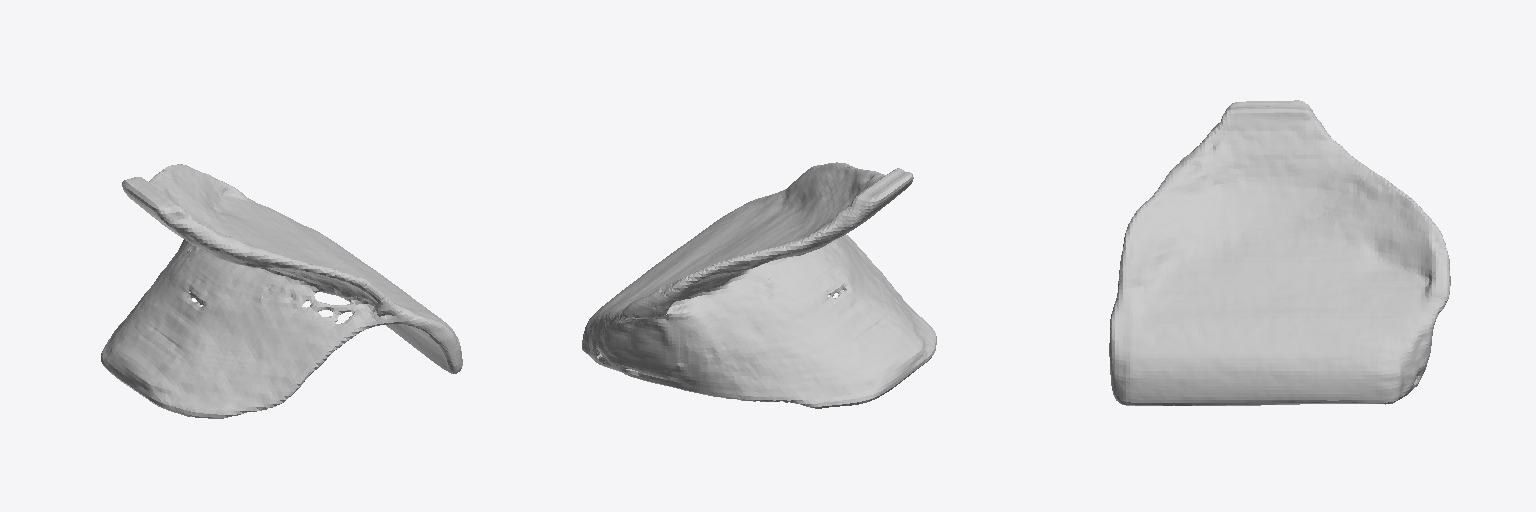
The model's file is sdf_0.obj.
3 renders of one model, left to right at view 1: azimuth 30°, elevation 25°; view 2: azimuth 150°, elevation 25°; view 3: azimuth 270°, elevation 25°, orthographic.
Size of the model in its own units: 1.31 by 0.9082 by 1.45.